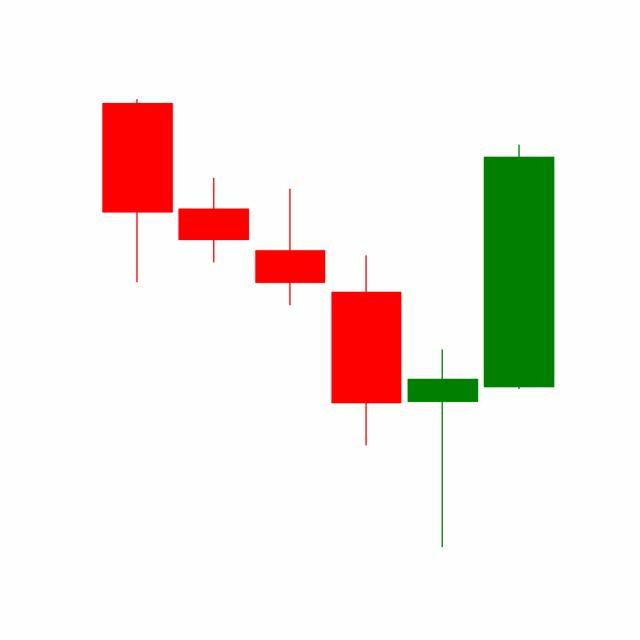Three Inside Up-Down: (326, 140, 555, 549)
